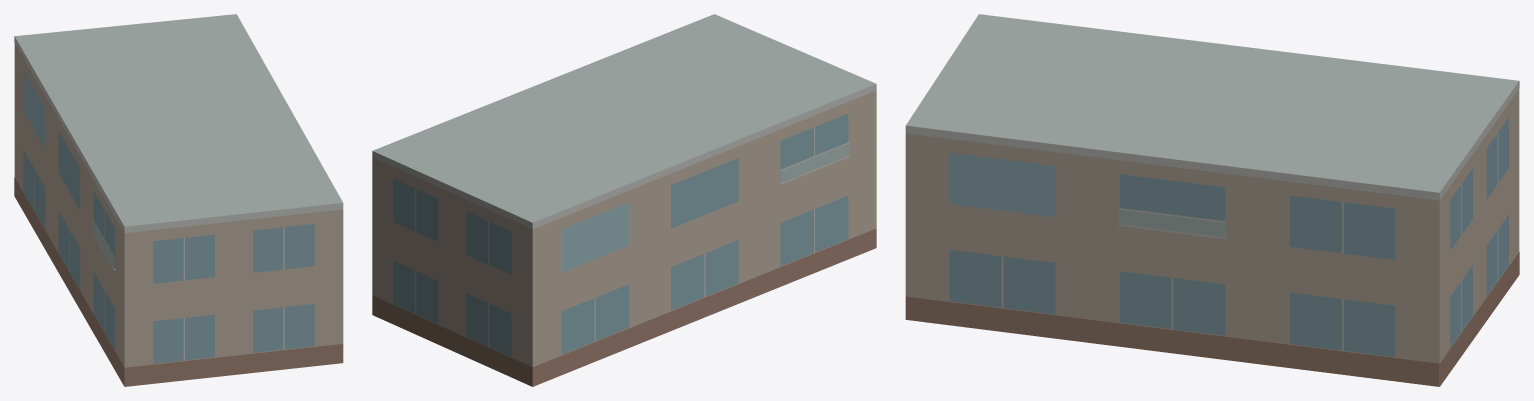
The model's file is survey-upis-32874406.glb.
3 views of the same model, side by side, from view 1: azimuth 30°, elevation 25°; view 2: azimuth 150°, elevation 25°; view 3: azimuth 270°, elevation 25° (orthographic). The views are drawn at different scales.
Parts seen in each view (by area): view 1: survey-upis-32874406.tmp; view 2: survey-upis-32874406.tmp; view 3: survey-upis-32874406.tmp.
Part boxes in pixels (bbox=[...]): survey-upis-32874406.tmp: bbox=[14, 14, 343, 386]; survey-upis-32874406.tmp: bbox=[372, 14, 876, 386]; survey-upis-32874406.tmp: bbox=[905, 14, 1519, 386].
Bounding box in the file's own units: 12.06 × 6.1 × 17.49.
